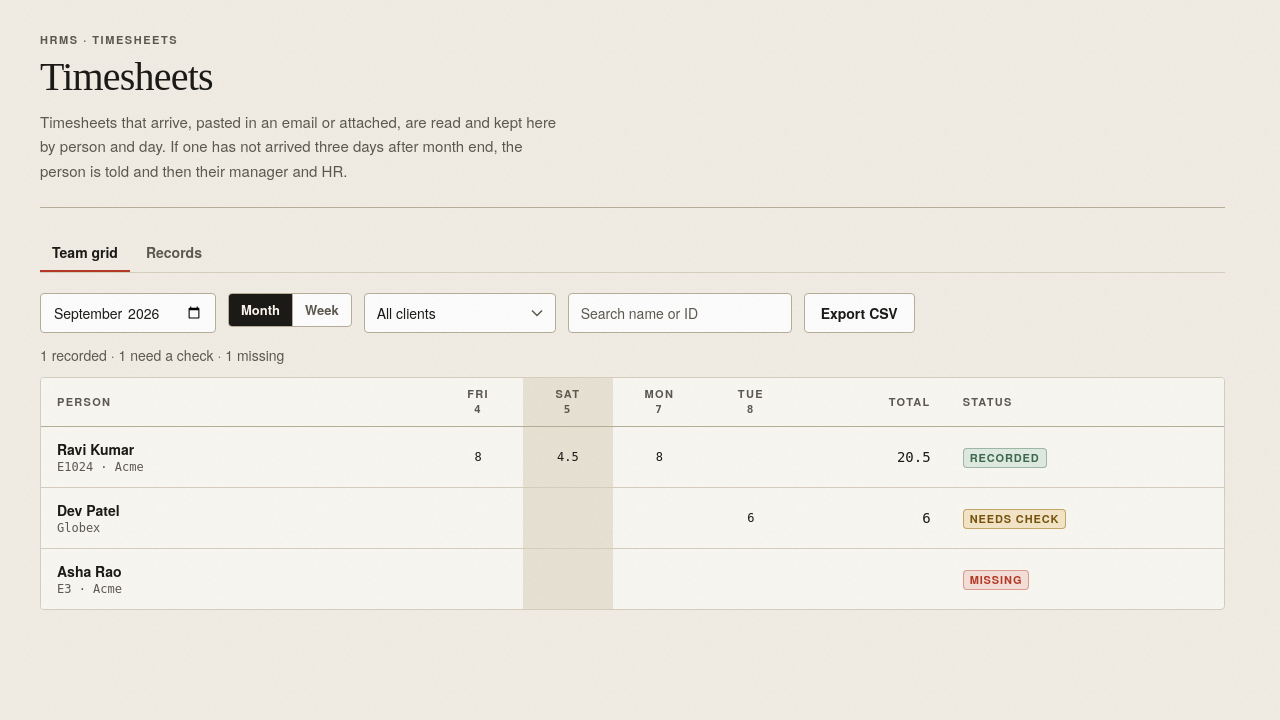
Scenario: TimesheetsPage › narrows the grid by client and search, and shows one week at a time
Check: the text "Ravi Kumar" is shown, box [57,438,144,458]
Select "Globex" in the dropdown named "Client or project" at (460, 313), box [364,293,556,333]
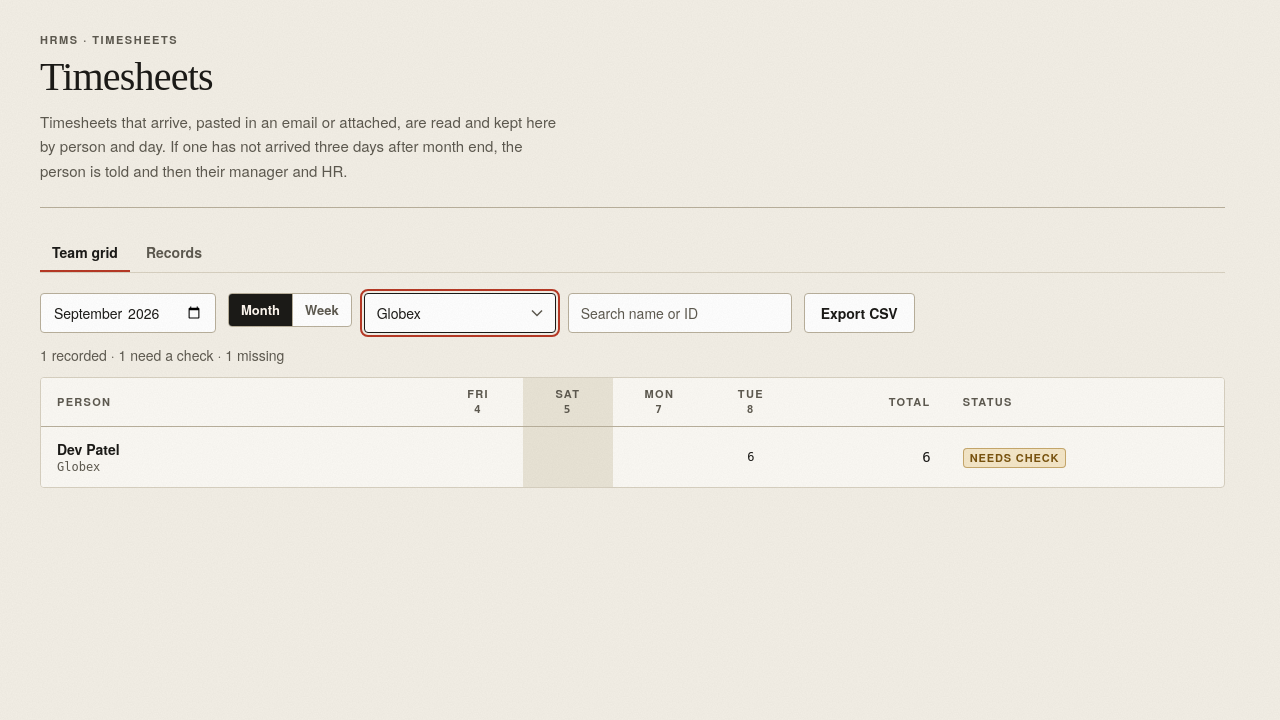
Check: the text "Dev Patel" is shown, box [57,438,120,458]
Check: the button "Ravi Kumar" is gone
Select "All clients" in the dropdown named "Client or project" at (460, 313), box [364,293,556,333]
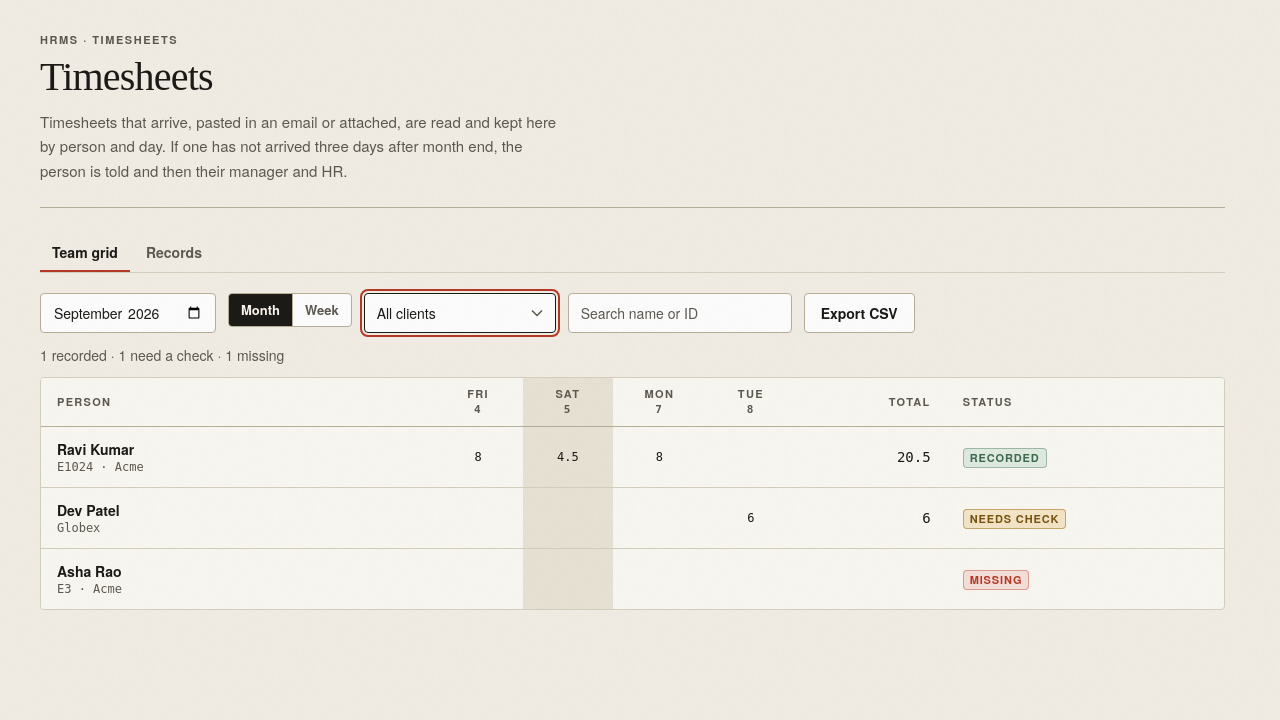
Type "e3" into the field named "Search people" at (680, 313), box [568,293,792,333]
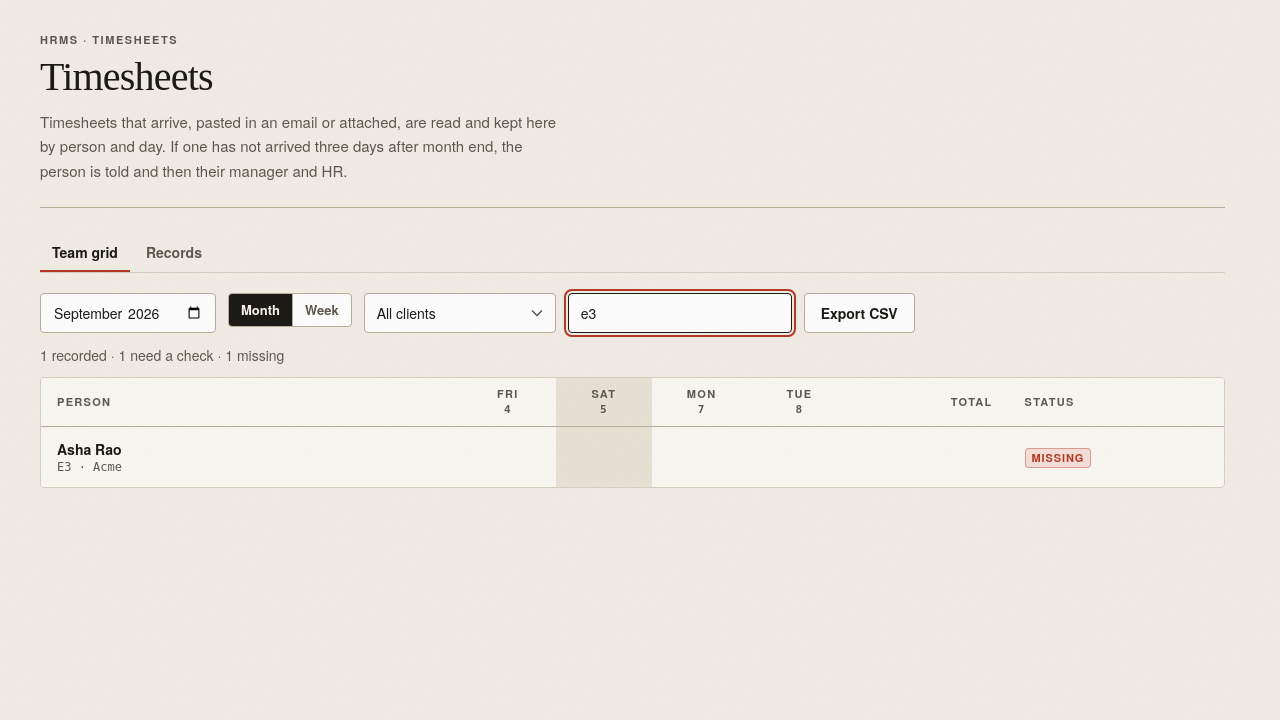
Check: the text "Asha Rao" is shown, box [57,438,122,458]
Check: the button "Dev Patel" is gone
Clear the field named "Search people" at (680, 313), box [568,293,792,333]
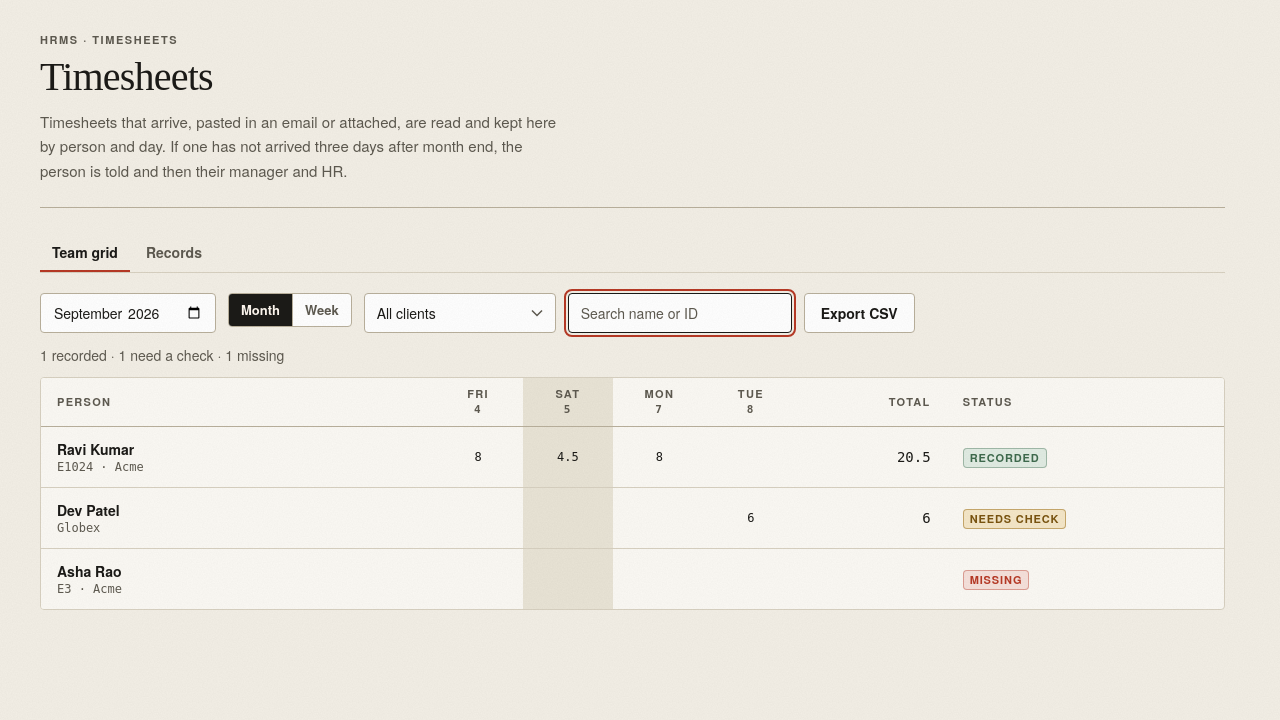
Click the button "Week" at (322, 310), box [293,294,351,326]
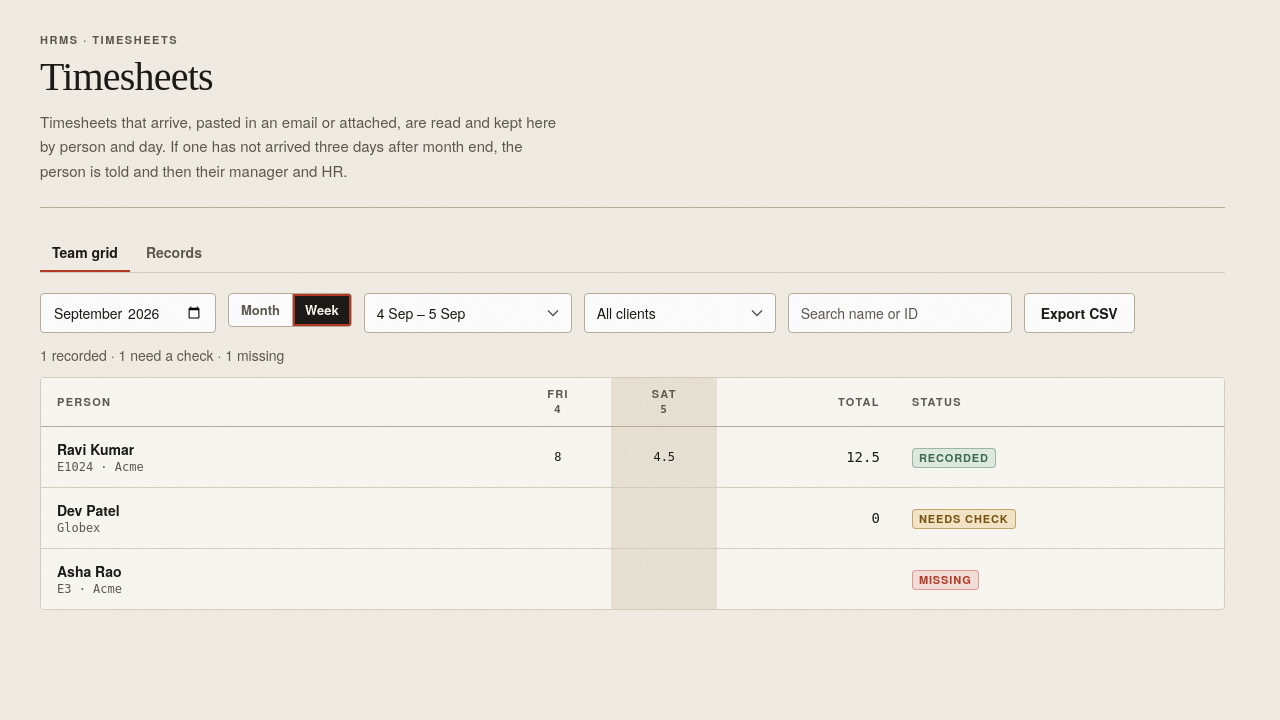
Check: the dropdown named "Week" shows "4 Sep – 5 Sep"
Select "7 Sep – 8 Sep" in the dropdown named "Week" at (468, 313), box [364,293,572,333]
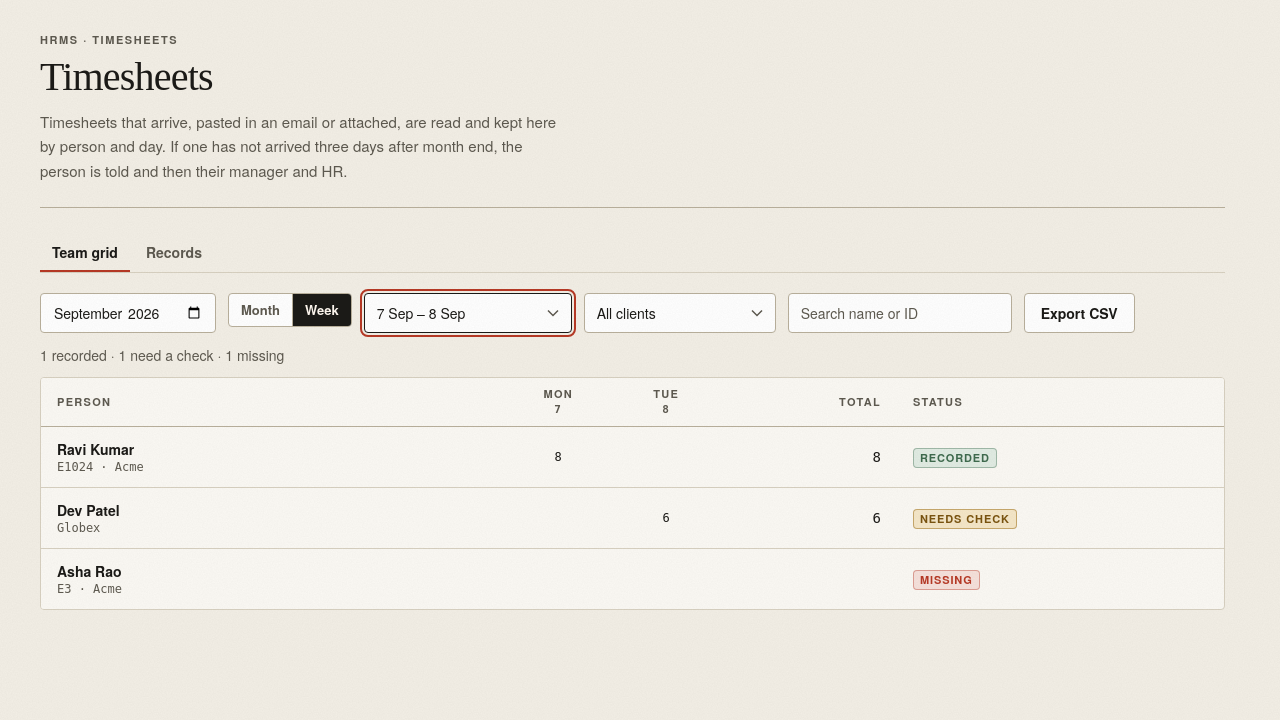
Check: the button named "Dev Patel, 8 Sep: 6 hours" is shown, box [621,510,711,526]
